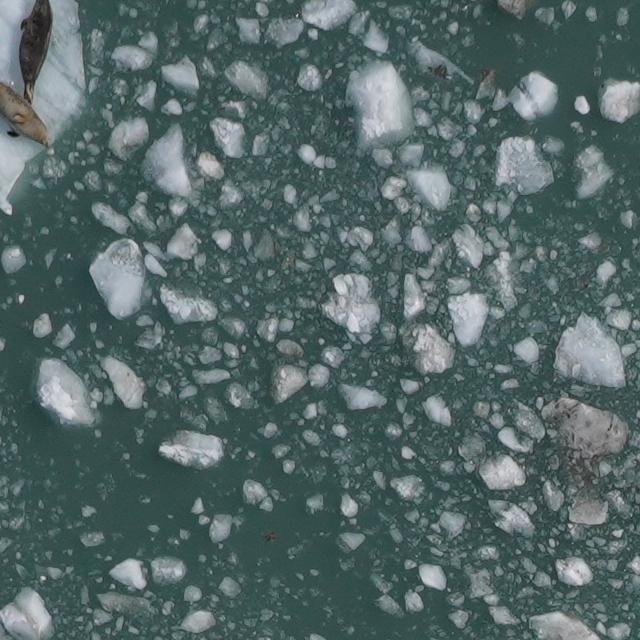seal: (15, 0, 58, 108), (0, 76, 58, 152)
